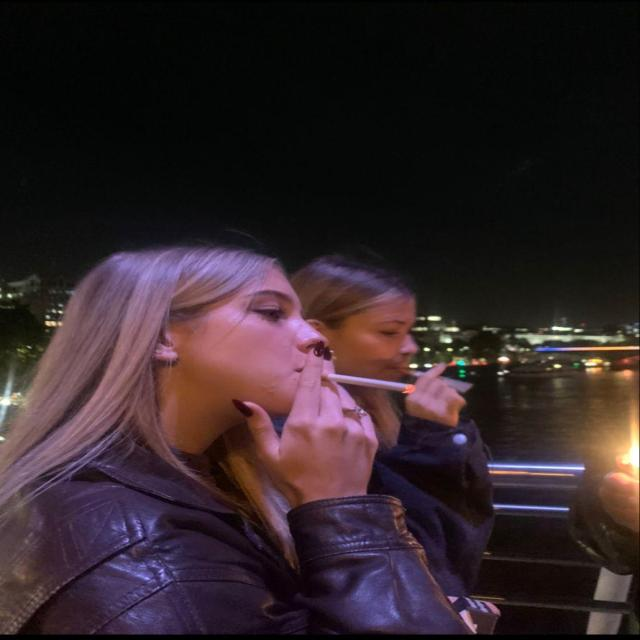cigarette: (308, 360, 481, 416)
